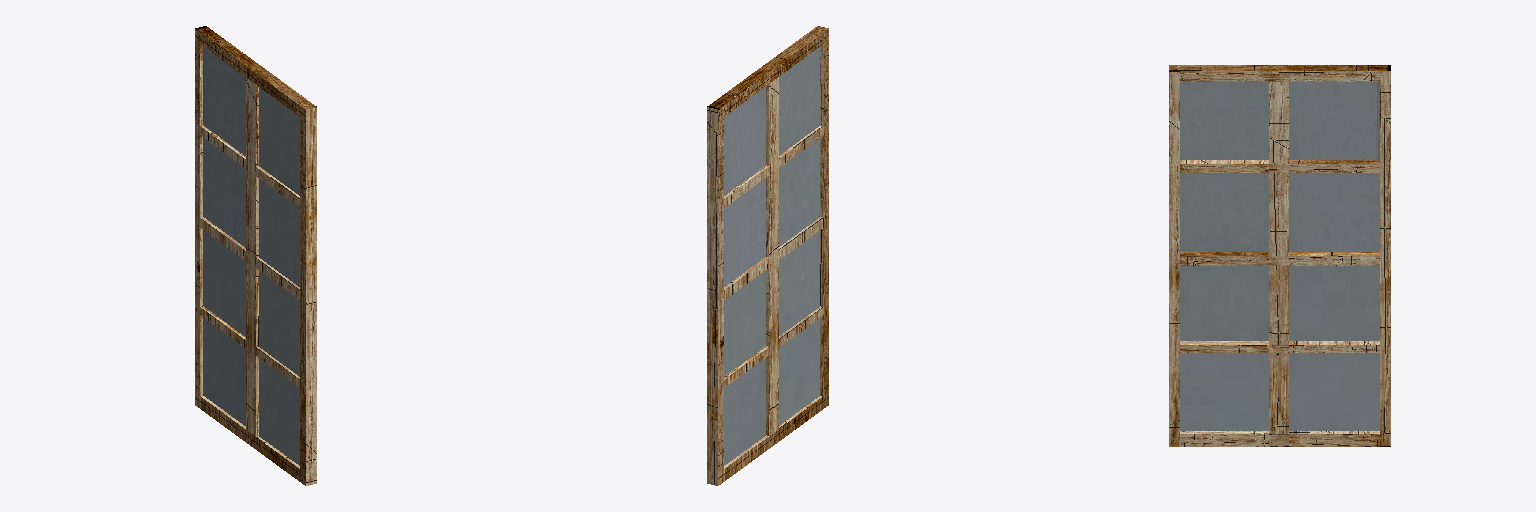
The picture shows the model from 3 angles: view 1: azimuth 30°, elevation 25°; view 2: azimuth 150°, elevation 25°; view 3: azimuth 270°, elevation 25°; orthographic projection.
Parts seen in each view (by area): view 1: Cube; view 2: Cube; view 3: Cube.
Part boxes in pixels (x1,y1,x2,y2): Cube: (195,26,316,485); Cube: (707,26,828,485); Cube: (1169,65,1390,446).
Bounding box in the file's own units: 0.2373 × 7.47 × 3.98.
1 materials, 1 textured.